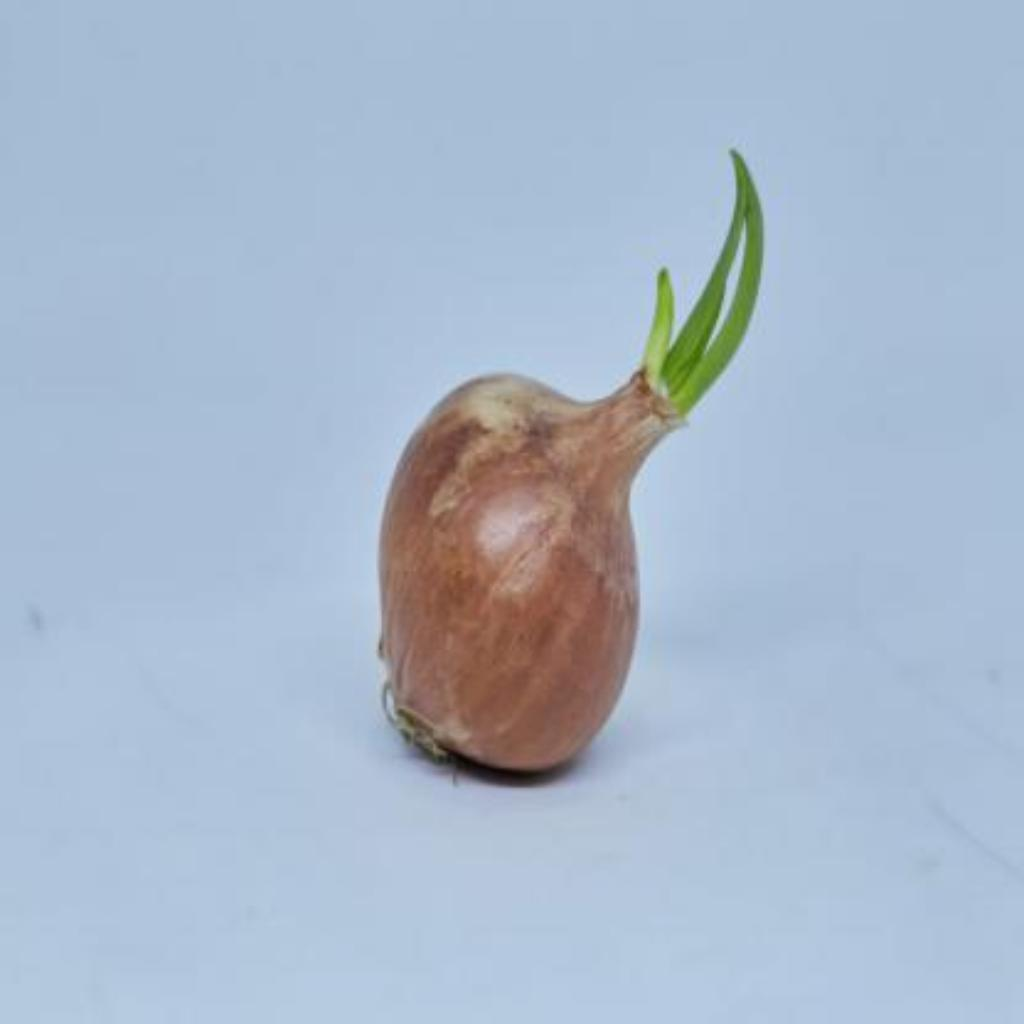Onion: (382, 372, 684, 772)
